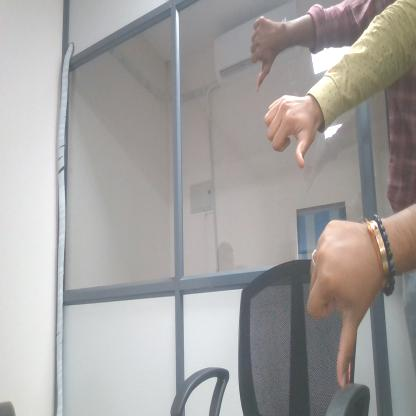Thumbs Down: (307, 204, 370, 382), (246, 14, 277, 89)
